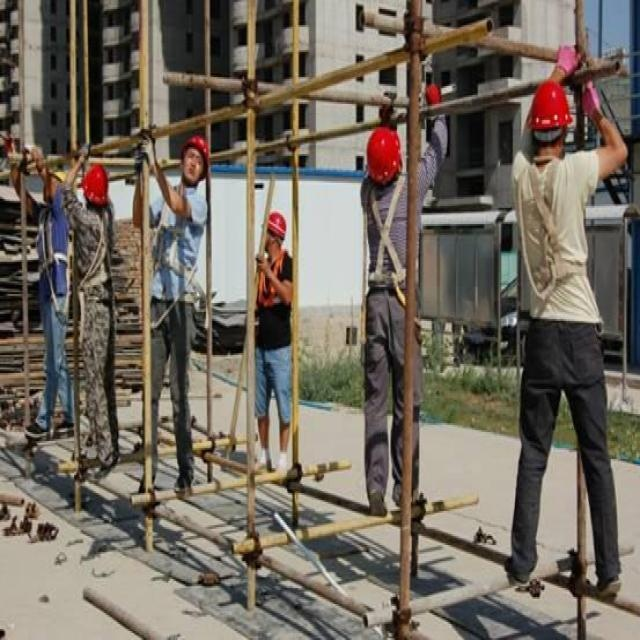Arnes_seguridad: (519, 145, 589, 298), (152, 179, 204, 296), (362, 171, 409, 293), (73, 201, 113, 290), (33, 197, 71, 274), (253, 242, 291, 308)
